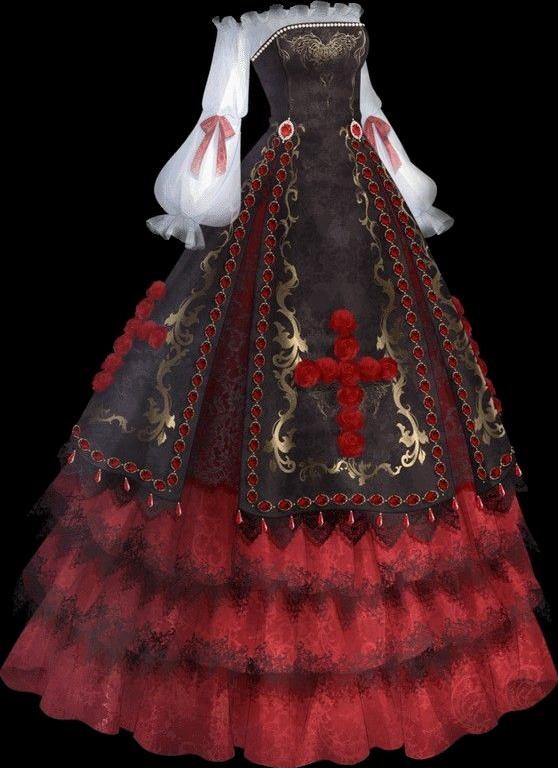Bodice: (241, 0, 369, 142)
Hemline: (67, 140, 523, 518), (0, 669, 557, 767), (17, 586, 550, 680), (31, 505, 527, 602)
Neckline: (250, 20, 359, 62), (241, 0, 365, 25)
Skirt: (0, 127, 557, 767)
Sleeve: (146, 15, 253, 249)
Sleeveline: (213, 14, 257, 59), (167, 208, 205, 228), (200, 105, 244, 122)
